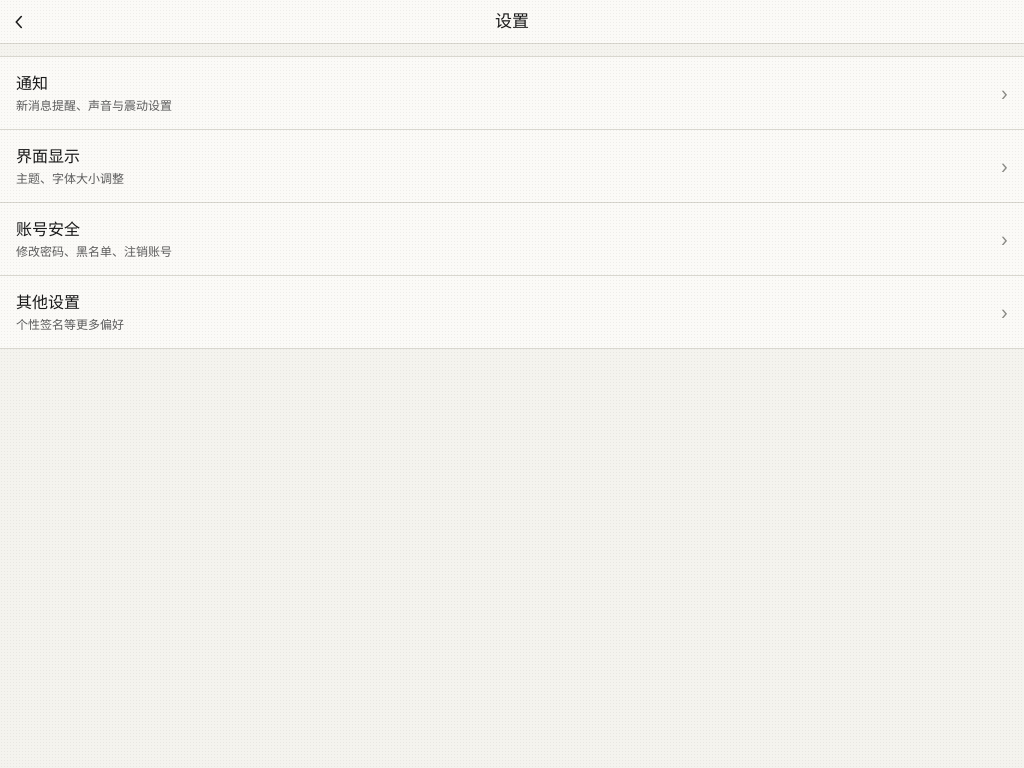
Test: Settings 设置页 › 通知面板可发送测试通知
Click the button "通知 新消息提醒、声音与震动设置 ›".
click(32, 83)  # box [0, 57, 1023, 129]
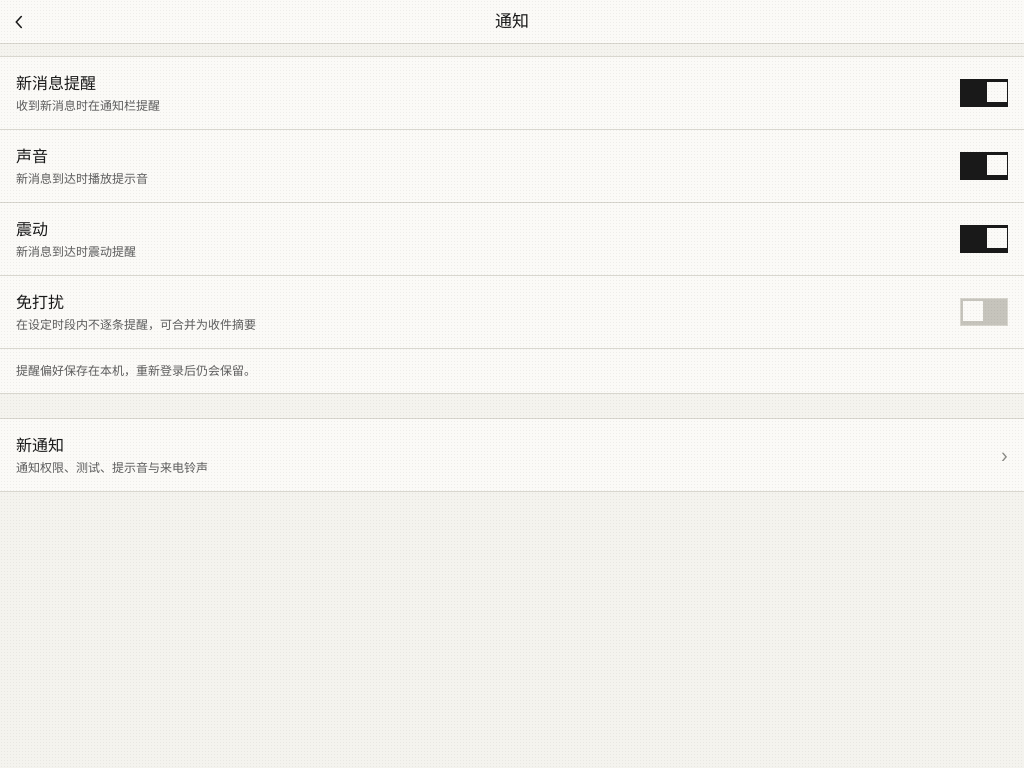
Click the button with test id "settings-notify-more-toggle".
click(40, 445)  # box [0, 419, 1023, 491]
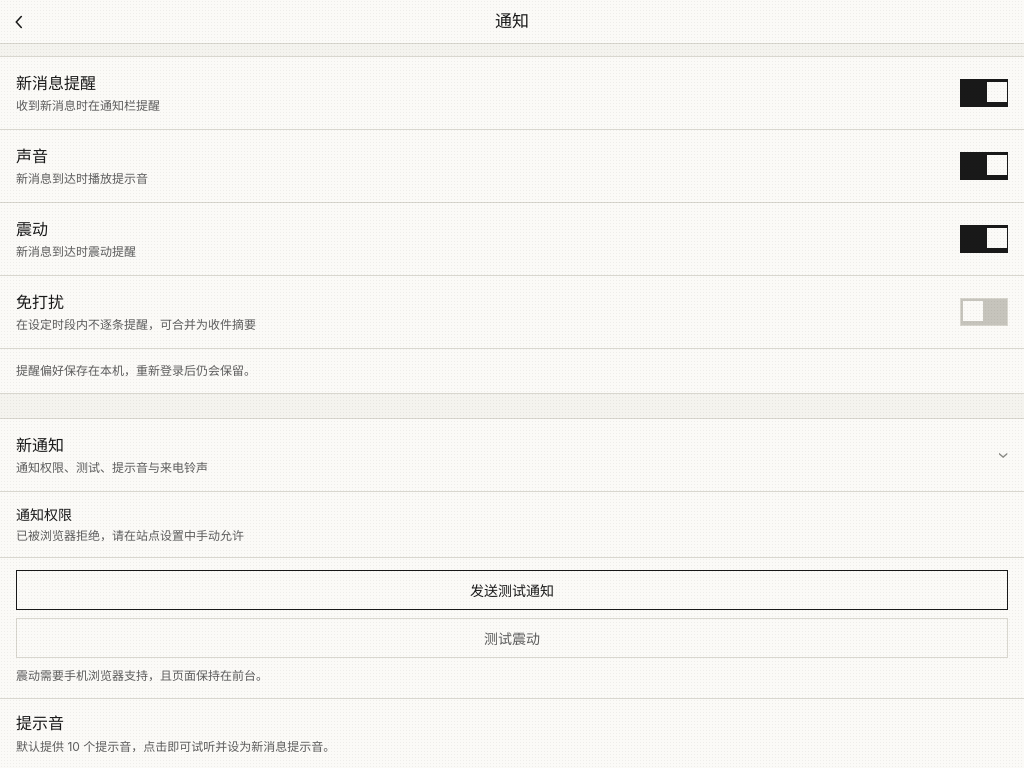
Click the button with test id "settings-test-notification".
click(512, 590)  # box [16, 570, 1008, 610]
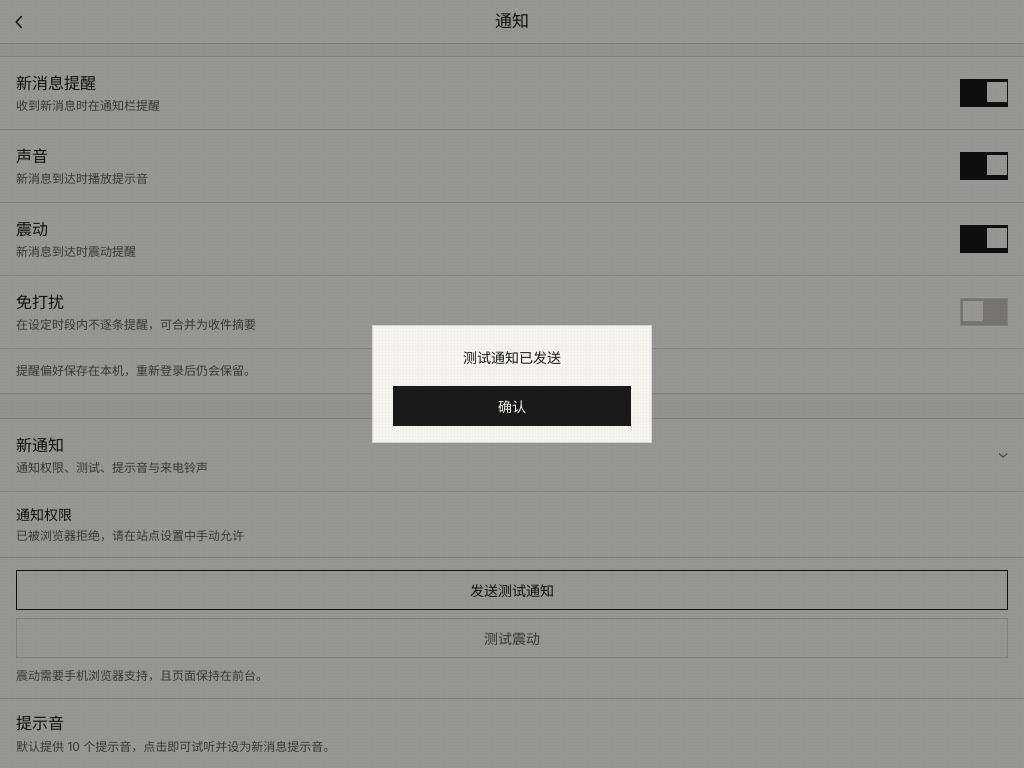
Check: the element with test id "settings-notice" is shown, box [372, 325, 652, 443]
Check: the text "测试通知已发送" is shown, box [463, 349, 561, 366]
